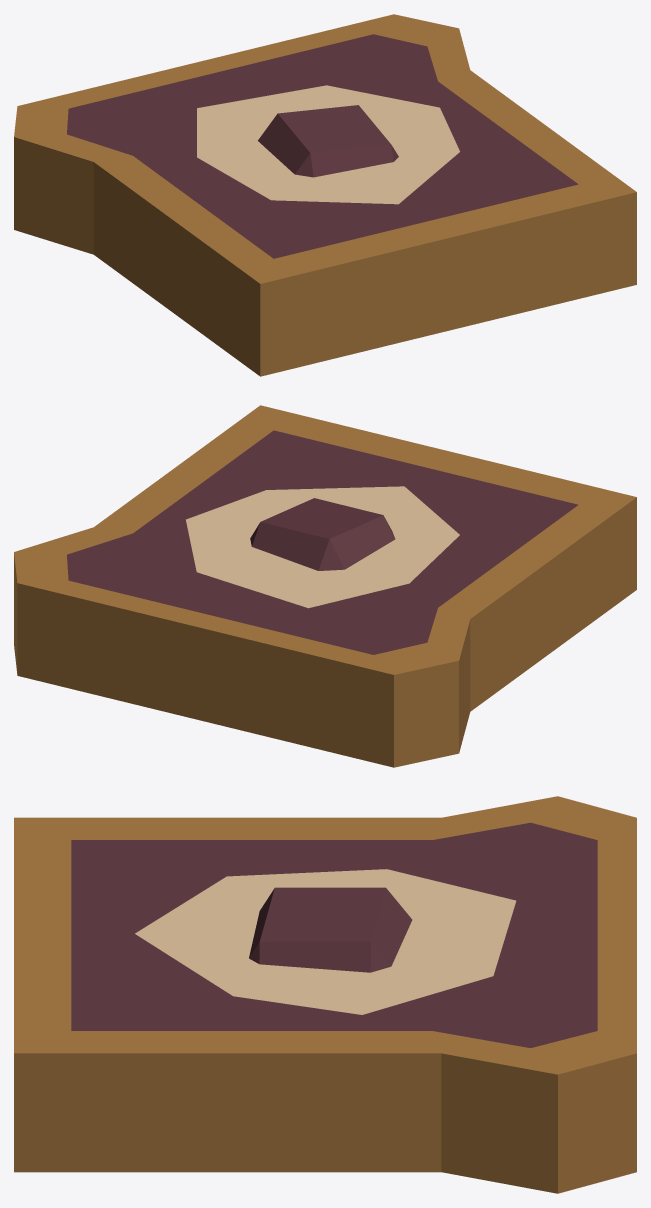
File: food-toast-butter.glb
3 renders of one model, top to bottom at view 1: azimuth 30°, elevation 25°; view 2: azimuth 150°, elevation 25°; view 3: azimuth 270°, elevation 25°, orthographic. The views are drawn at different scales.
Parts seen in each view (by area): view 1: toast-butter; view 2: toast-butter; view 3: toast-butter.
Part boxes in pixels (<box>): toast-butter: <box>14,14,636,376</box>; toast-butter: <box>14,405,636,767</box>; toast-butter: <box>14,796,636,1193</box>.
Bounding box in the file's own units: 0.1326 × 0.0335 × 0.1254.
